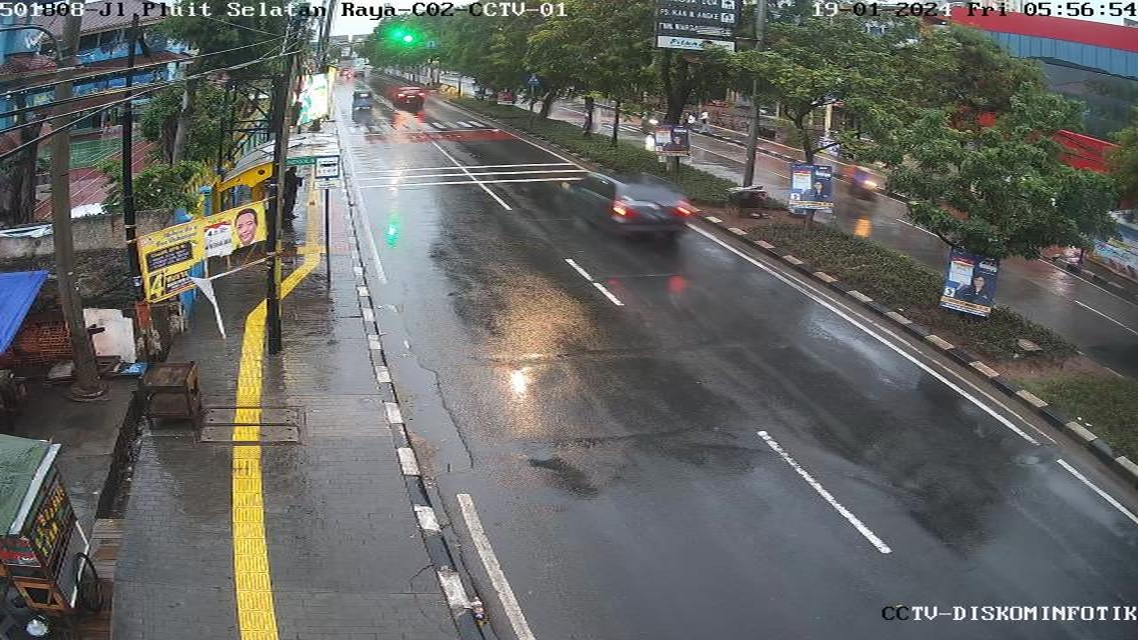Gerobak: (4, 436, 116, 623)
